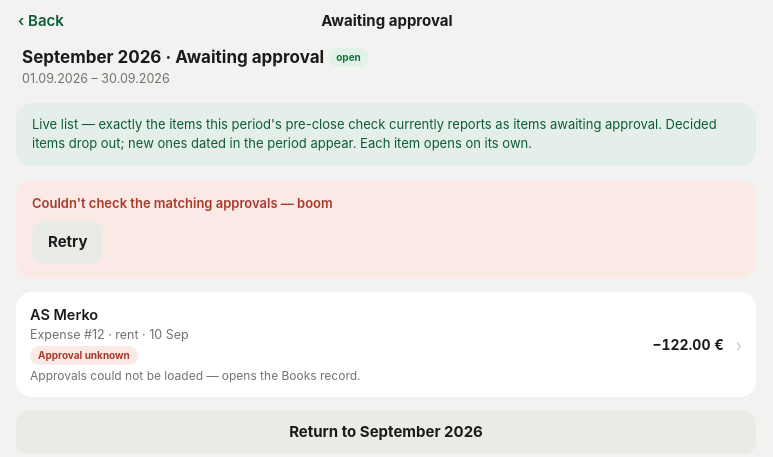
Test: PeriodItemsScreen › approvals failure: row kept, Retry offered, no-match never claimed
This screenshot has width=773, height=457.
Expected: the text "Approval unknown" is shown, [30,346,138,365]
Expected: the text "Couldn't check the matching approvals — boom" is shown, [32,195,333,211]
Click the button "Retry" at (68, 243), box [32,221,104,264]
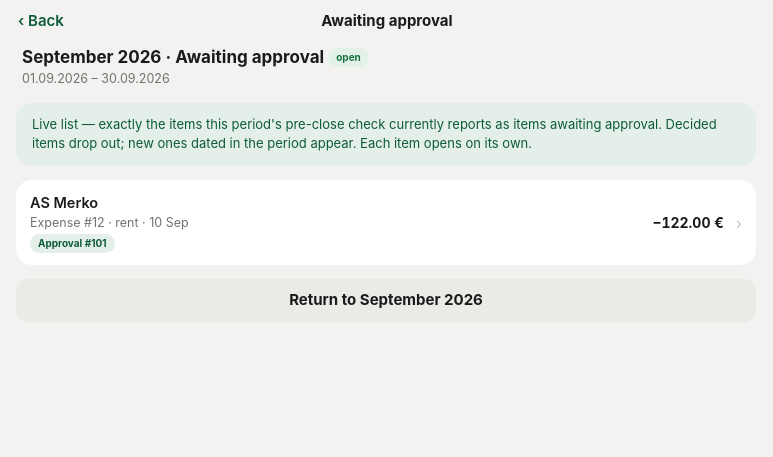
Expected: the text "Approval #101" is shown, [30,234,114,253]
